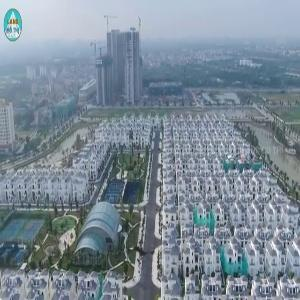drone: (117, 225, 167, 275)
